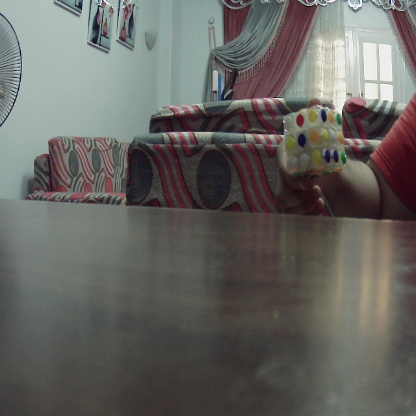Rubix Cube: (281, 107, 346, 173)
